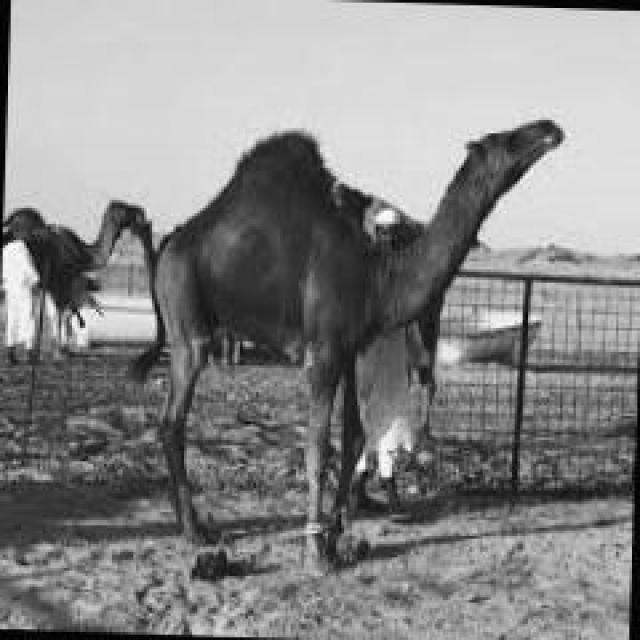Camel: (133, 117, 563, 576), (0, 197, 157, 359)
